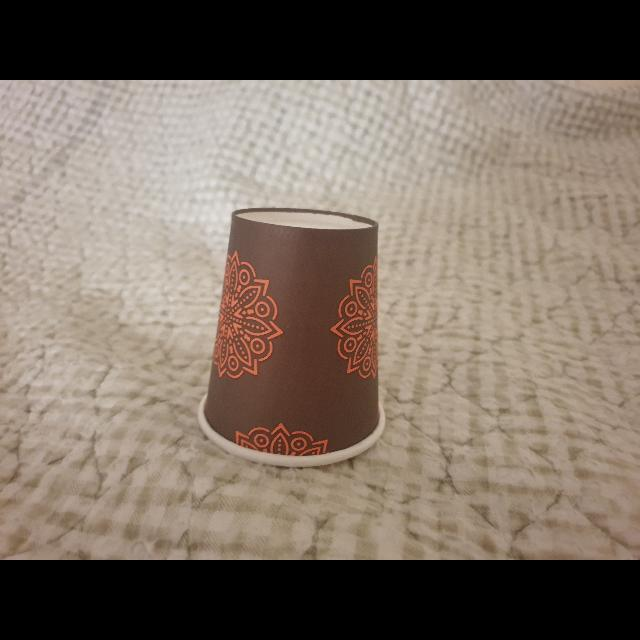trash: (196, 202, 388, 462)
